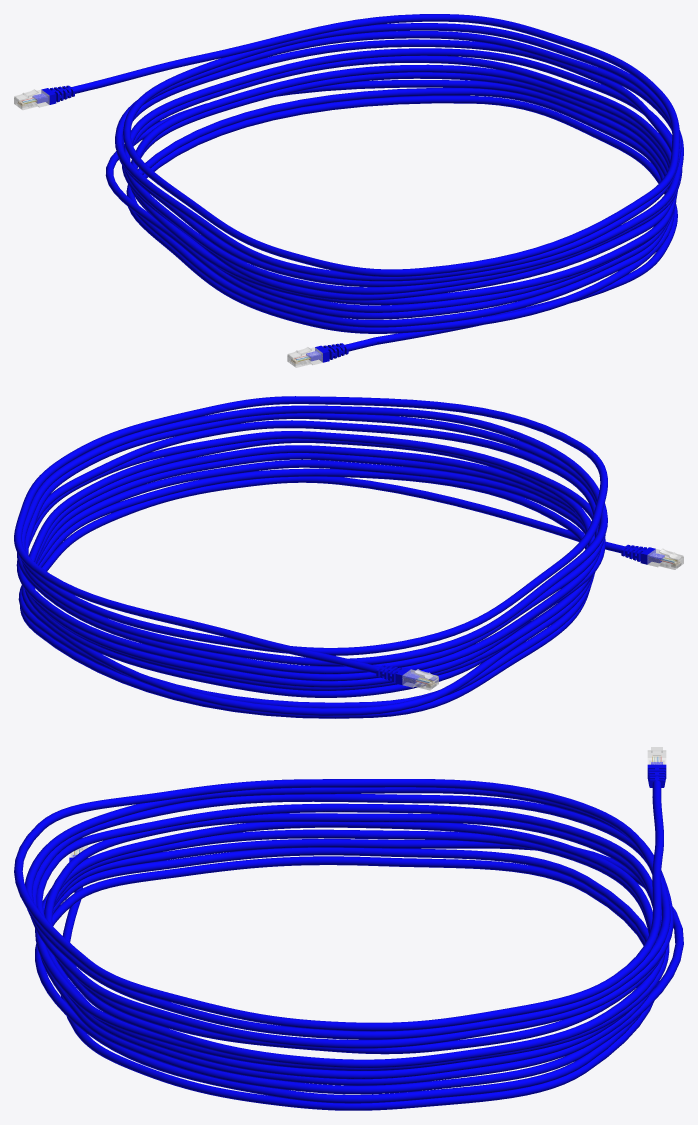
Rendered from Long LAN Cable.fbx.
3 renders of one model, top to bottom at view 1: azimuth 30°, elevation 25°; view 2: azimuth 150°, elevation 25°; view 3: azimuth 270°, elevation 25°, orthographic. The views are drawn at different scales.
Visible parts, largest first — view 1: BézierCurve, imagetostl_mesh0, imagetostl_mesh0.001, imagetostl_mesh1.001, imagetostl_mesh1; view 2: BézierCurve, imagetostl_mesh0.001, imagetostl_mesh0, imagetostl_mesh1.001, imagetostl_mesh1; view 3: BézierCurve.
Part boxes in pixels (x1=…): BézierCurve: x1=94, y1=14, x2=683, y2=345; imagetostl_mesh0: x1=306, y1=338, x2=372, y2=362; imagetostl_mesh0.001: x1=32, y1=81, x2=99, y2=104; imagetostl_mesh1.001: x1=14, y1=89, x2=49, y2=110; imagetostl_mesh1: x1=287, y1=347, x2=322, y2=367; BézierCurve: x1=14, y1=396, x2=607, y2=718; imagetostl_mesh0.001: x1=351, y1=661, x2=419, y2=685; imagetostl_mesh0: x1=605, y1=541, x2=664, y2=564; imagetostl_mesh1.001: x1=402, y1=669, x2=438, y2=690; imagetostl_mesh1: x1=647, y1=548, x2=683, y2=569; BézierCurve: x1=14, y1=779, x2=683, y2=1110.
Size of the model in its own units: 38325 by 6445 by 39400.
